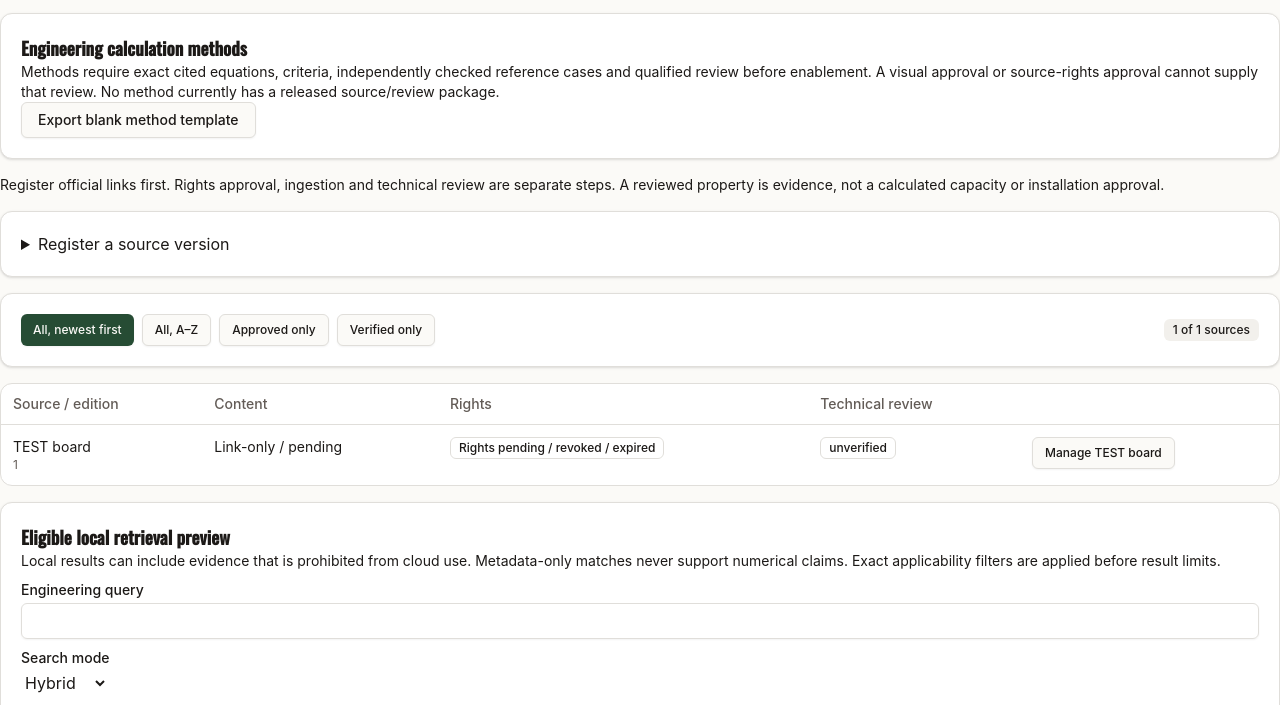
staging errors show beside the Stage PDF only button
Click the button "Manage TEST board": (1103, 452) [1032,436,1175,468]
(page scrolled)
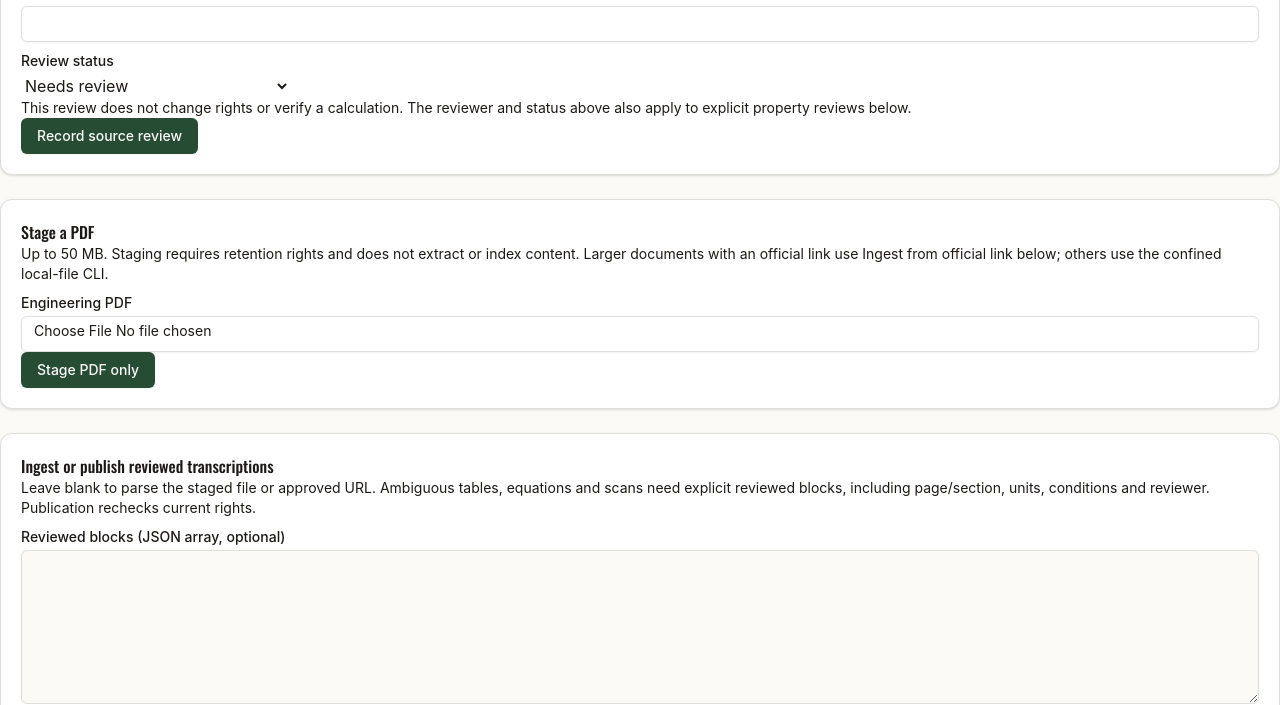
Click the button "Stage PDF only": (88, 370) [21,352,155,388]
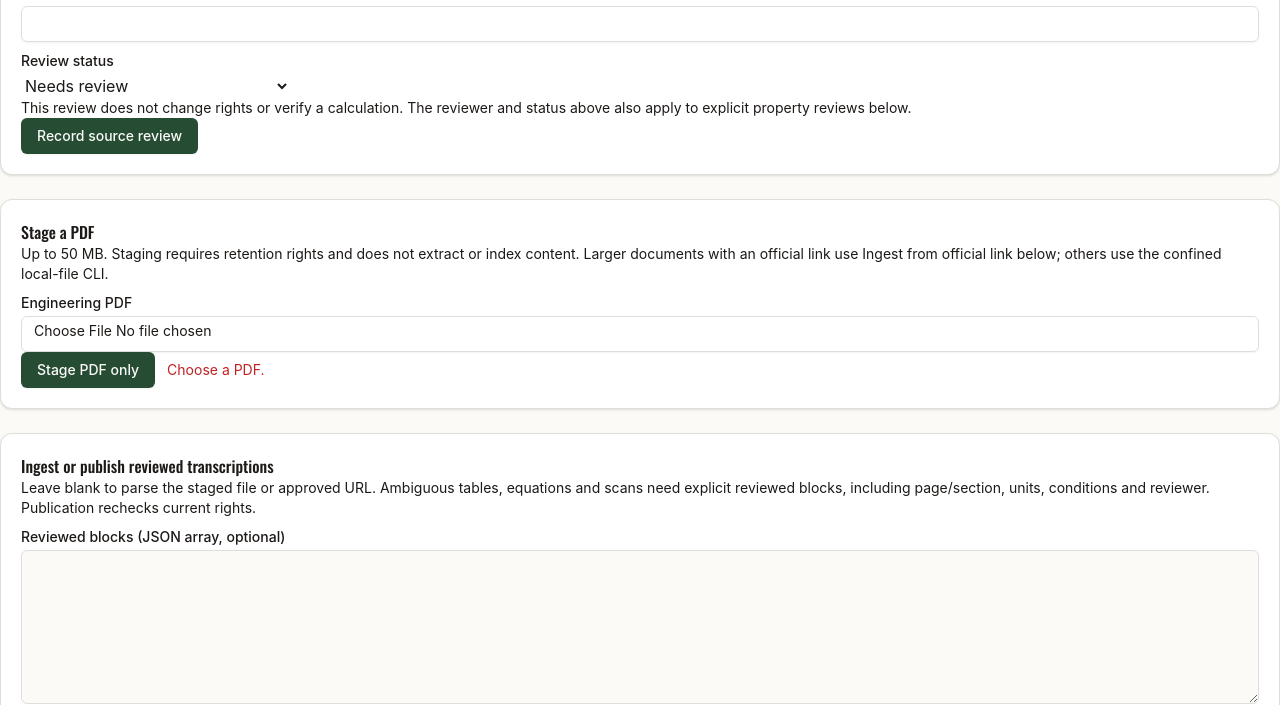
Expected: the message reads "Choose a PDF.", [167,360,265,378]
